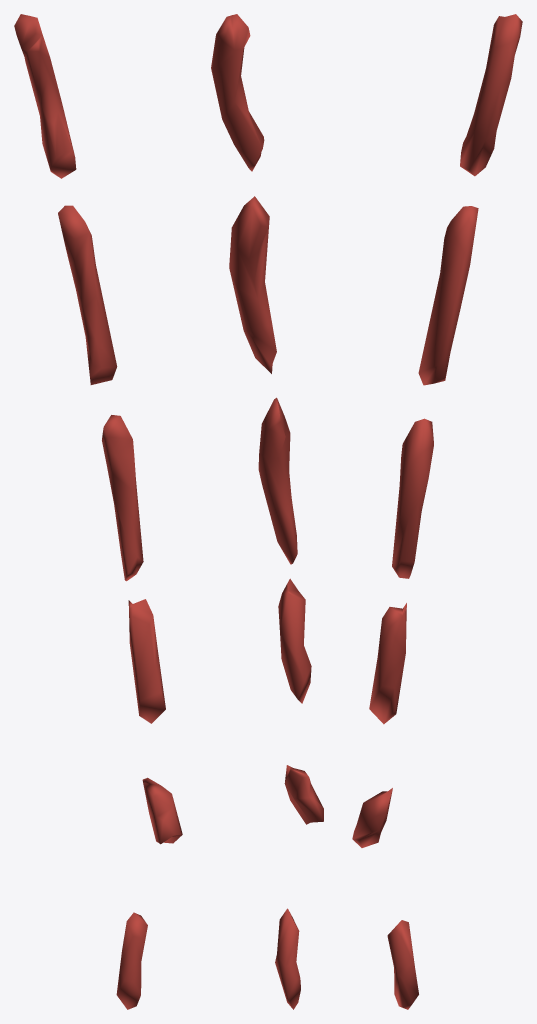
File: musculos-interspinales-lumborum-muscles-l.glb
3 views of the same model, side by side, from view 1: azimuth 90°, elevation 25°; view 2: azimuth 150°, elevation 25°; view 3: azimuth 270°, elevation 25° (orthographic). The views are drawn at different scales.
Visible parts, largest first — view 1: Interspinales lumborum muscles.l; view 2: Interspinales lumborum muscles.l; view 3: Interspinales lumborum muscles.l.
Boxes of the visible parts, box(x1,y1,x2,y2) form: Interspinales lumborum muscles.l: box(14, 14, 182, 1009); Interspinales lumborum muscles.l: box(211, 14, 323, 1009); Interspinales lumborum muscles.l: box(352, 14, 522, 1009).
Size of the model in its own units: 0.00875 by 0.1603 by 0.0247.
